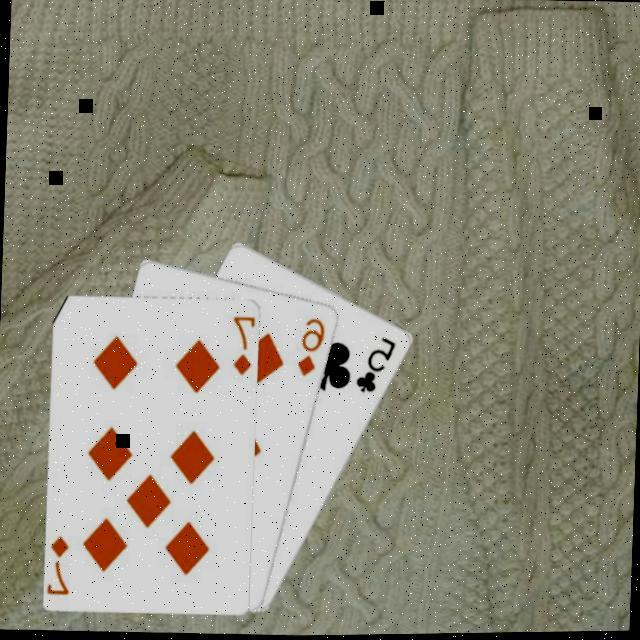5C: (351, 334, 398, 400)
6D: (293, 316, 327, 381)
7D: (228, 313, 254, 380), (46, 534, 72, 599)
